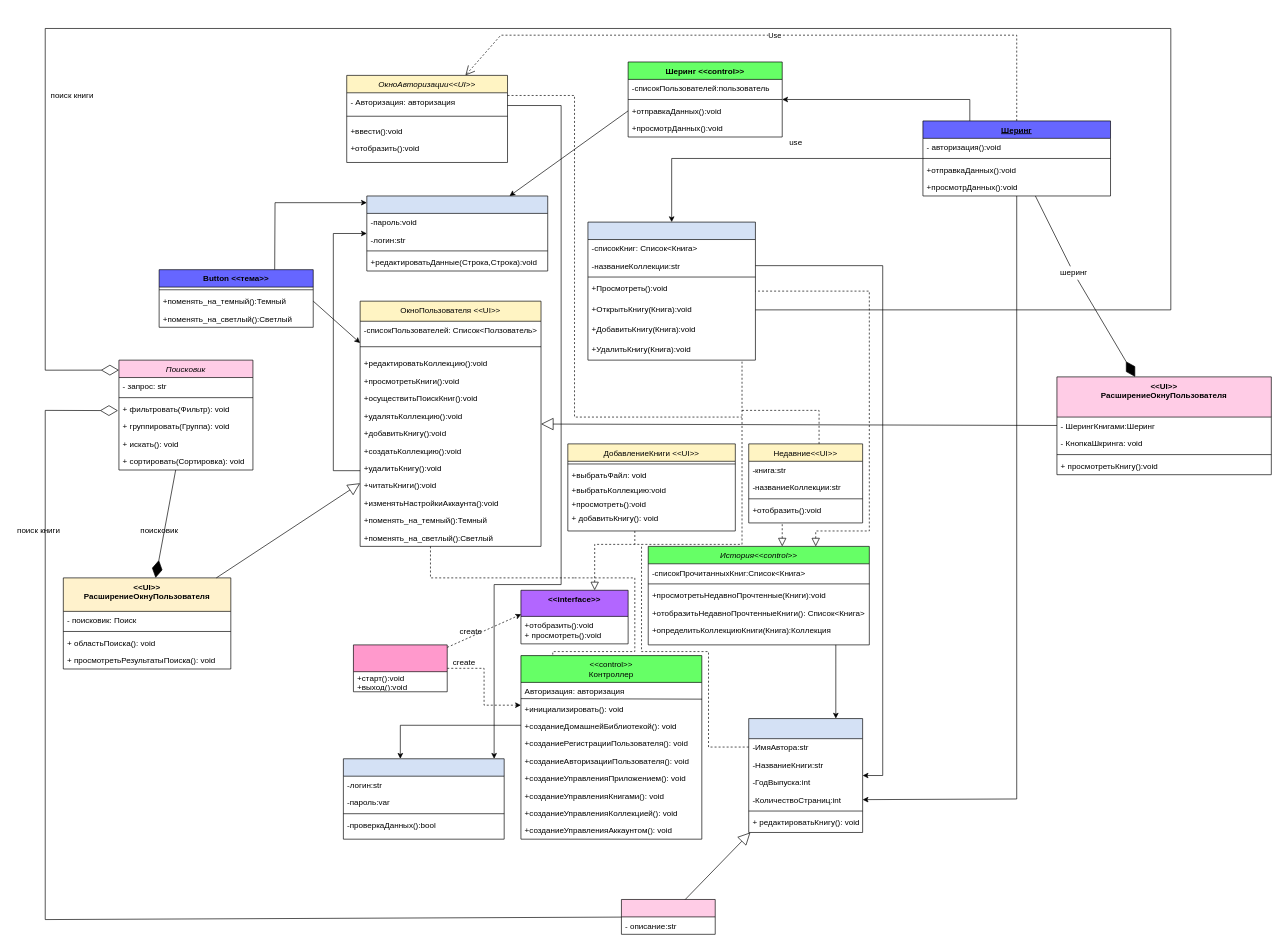
This 1283x949 diagram has some shape labels left out. The box of each missing label's shape, as (x1, y1, x2, y2) in pixels:
<<main>> <<injector>>: (353, 644, 447, 692)
Авторизация: (343, 758, 504, 839)
Книга: (748, 718, 863, 832)
Коллекция: (587, 221, 755, 360)
Пользователь: (366, 195, 548, 271)
РасширениеКниги: (621, 899, 715, 934)
